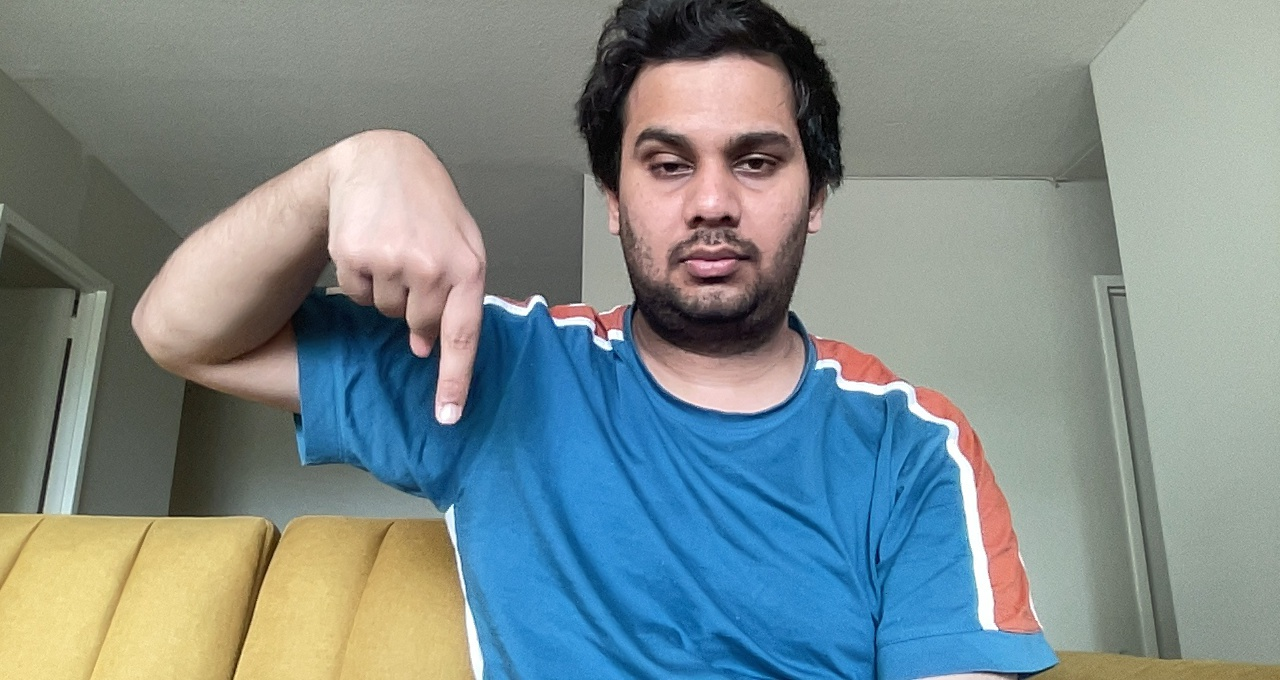fingerdown: (319, 120, 490, 431)
